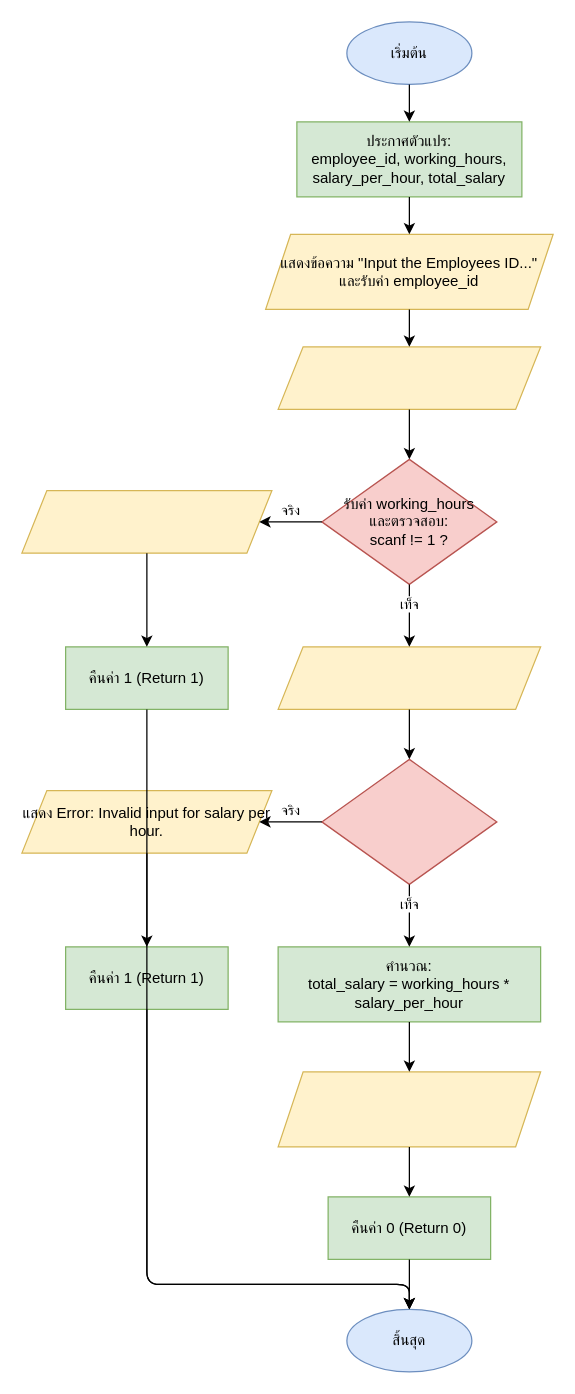
This 575x1394 diagram has some shape labels left out. Here are the shapes that lost their labels. From the top down, the centre of each, then its label:
(x=409, y=377): แสดงข้อความ "Input the working hrs:"
(x=146, y=521): แสดง Error: Invalid input for working hours.
(x=409, y=677): แสดงข้อความ "Salary amount/hr:"
(x=409, y=821): รับค่า salary_per_hour และตรวจสอบ: scanf != 1 ?
(x=409, y=1109): แสดงผลลัพธ์: Employees ID = ... Salary = U$ ... (%.2f)
